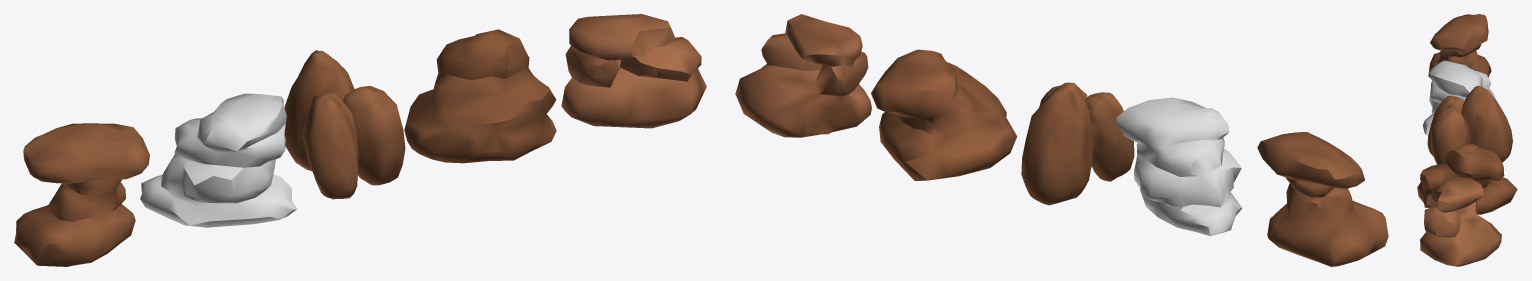
Rendered from Rocks.fbx.
3 renders of one model, left to right at view 1: azimuth 30°, elevation 25°; view 2: azimuth 150°, elevation 25°; view 3: azimuth 270°, elevation 25°, orthographic. The views are drawn at different scales.
Parts seen in each view (by area): view 1: Rock2, Rock4, Rock5, Rock1, Rock3; view 2: Rock2, Rock4, Rock1, Rock5, Rock3; view 3: Rock1, Rock3, Rock2, Rock5, Rock4.
Part boxes in pixels (x1,y1,x2,y2): Rock2: (404,29,556,163); Rock4: (140,93,296,227); Rock5: (14,123,149,266); Rock1: (561,14,706,128); Rock3: (284,50,405,199); Rock2: (871,49,1017,180); Rock4: (1116,97,1241,236); Rock1: (735,14,871,137); Rock5: (1257,132,1388,266); Rock3: (1021,82,1134,205); Rock1: (1420,177,1501,266); Rock3: (1427,86,1512,164); Rock2: (1417,143,1517,214); Rock5: (1428,14,1491,80); Rock4: (1422,60,1497,135).
Size of the model in its own units: 2674 by 473 by 554.
